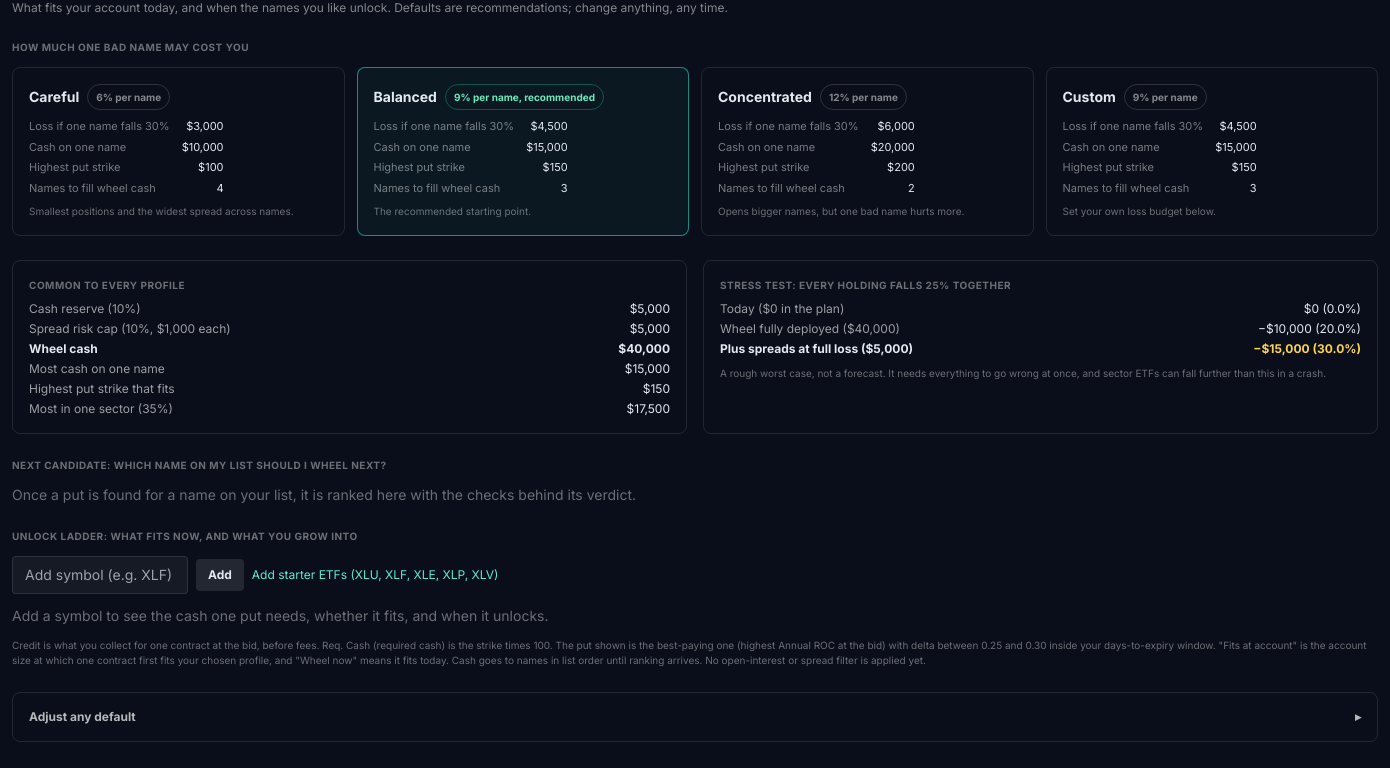
Scenario: WheelPlanTab › a soft warning never blocks; a value that breaks the math shows an error and is not saved
Expected: the text "Add a symbol" is shown, left=12, top=607, right=548, bottom=624
Click the button "Adjust any default ▸" at (82, 716), box left=29, top=709, right=1361, bottom=725
(page scrolled)
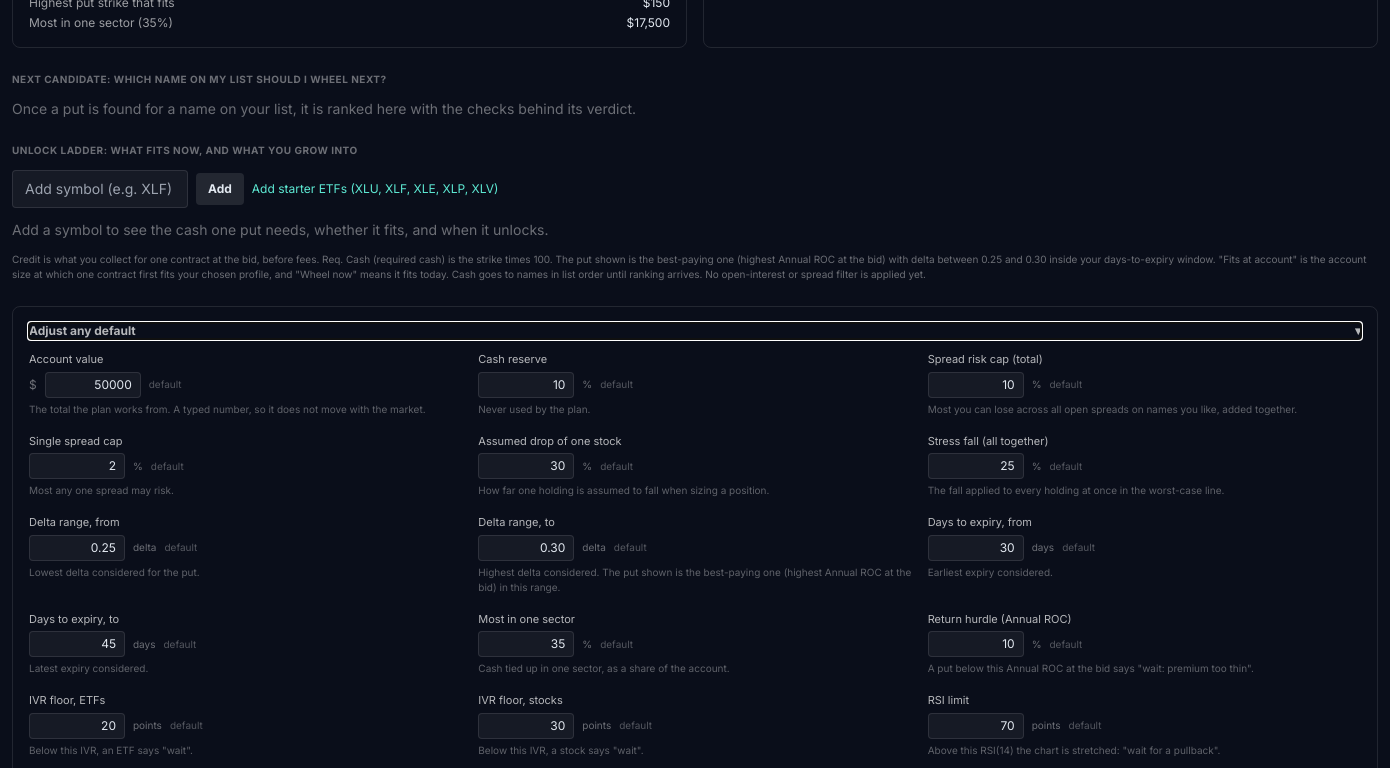
Replace the text in the field labelled "Spread risk cap (total)" with "95" at (976, 384), box left=928, top=372, right=1024, bottom=398
Then press Enter
(page scrolled)
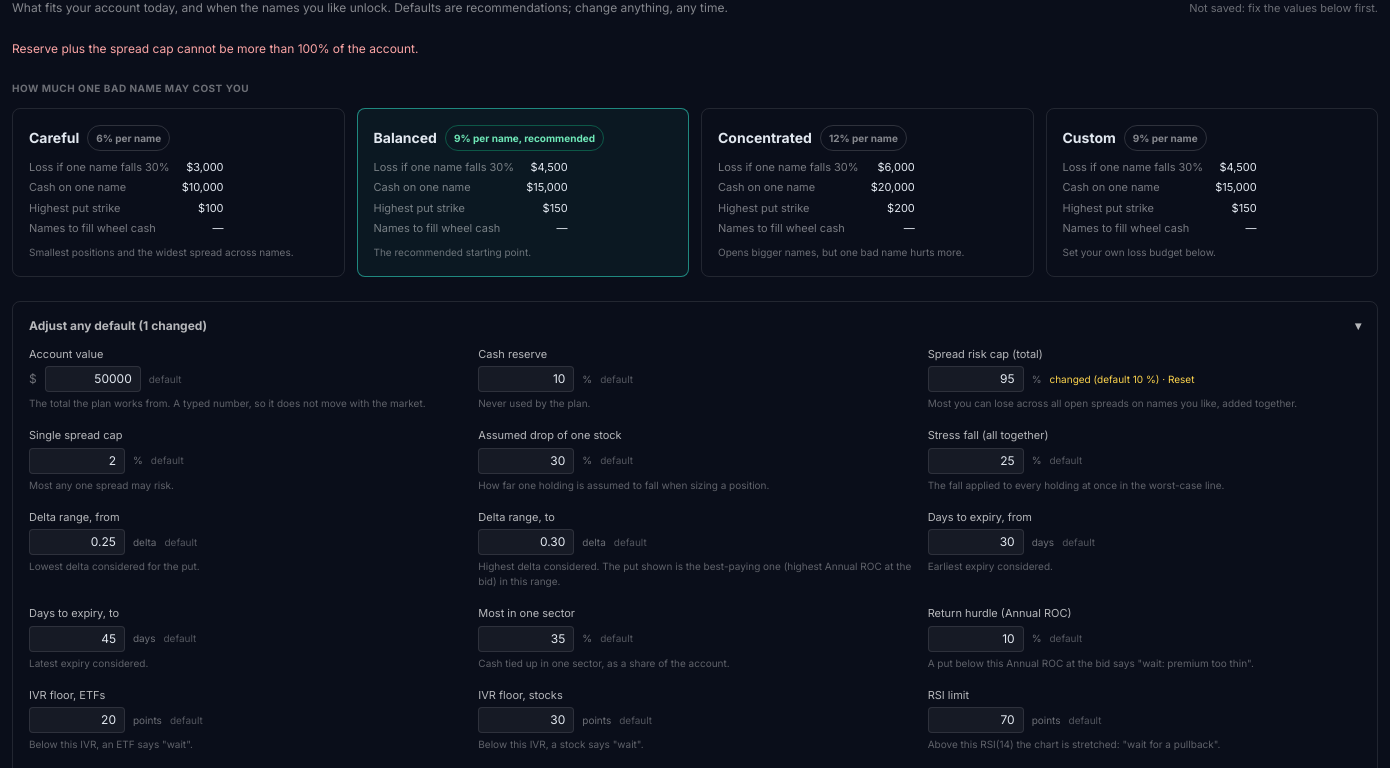
Result: the message shows "cannot be more than 100%" at left=12, top=40, right=418, bottom=56
Result: the text "Not saved: fix the values below first." is shown at left=1189, top=0, right=1378, bottom=16
